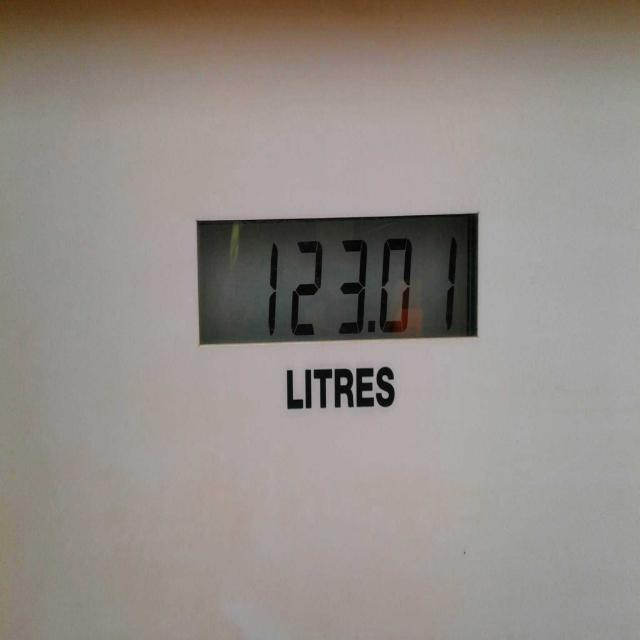.: (366, 313, 379, 337)
0: (378, 236, 417, 342)
1: (254, 236, 288, 342), (434, 233, 463, 332)
2: (292, 233, 330, 350)
3: (336, 227, 369, 347)
